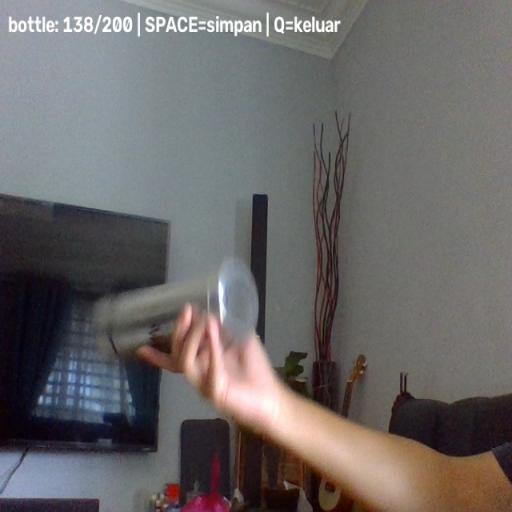Bottle: (91, 256, 260, 367)
